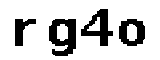4: (80, 6, 117, 53)
g: (47, 17, 80, 60)
o: (118, 16, 147, 49)
r: (8, 13, 40, 49)
